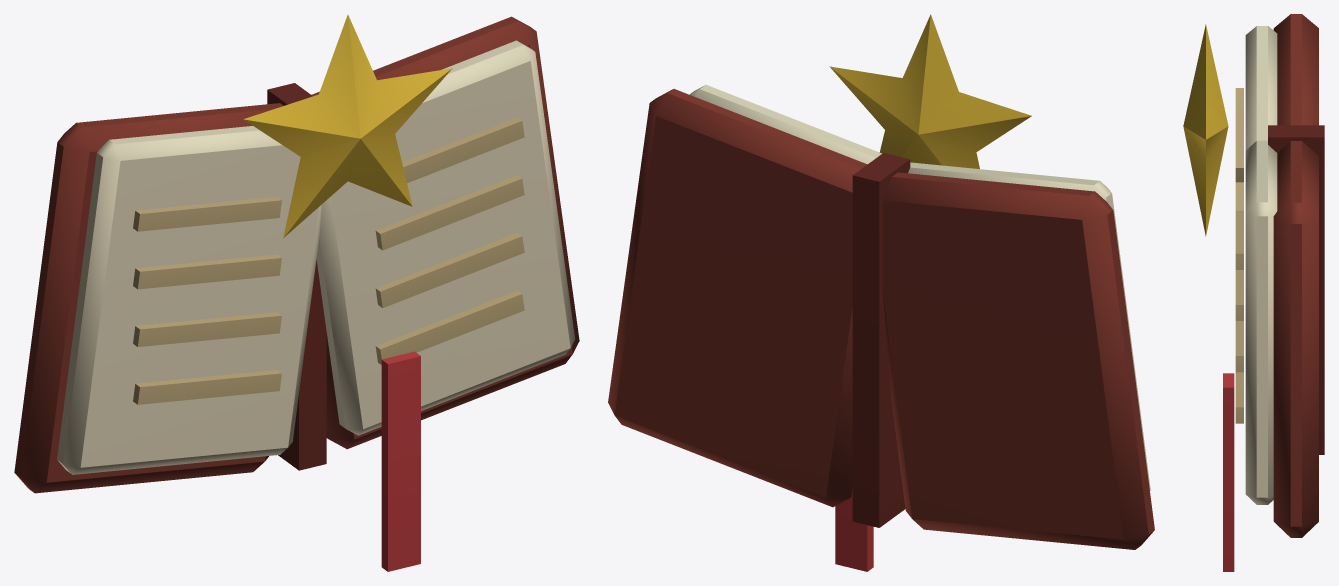
File: ui_chronik.glb
3 views of the same model, side by side, from view 1: azimuth 30°, elevation 25°; view 2: azimuth 150°, elevation 25°; view 3: azimuth 270°, elevation 25° (orthographic). The views are drawn at different scales.
Parts seen in each view (by area): view 1: body; view 2: body; view 3: body.
Part boxes in pixels (bbox=[...]): body: bbox=[14, 14, 579, 571]; body: bbox=[608, 14, 1154, 571]; body: bbox=[1183, 14, 1324, 571].
Size of the model in its own units: 0.5067 by 0.5 by 0.125.
